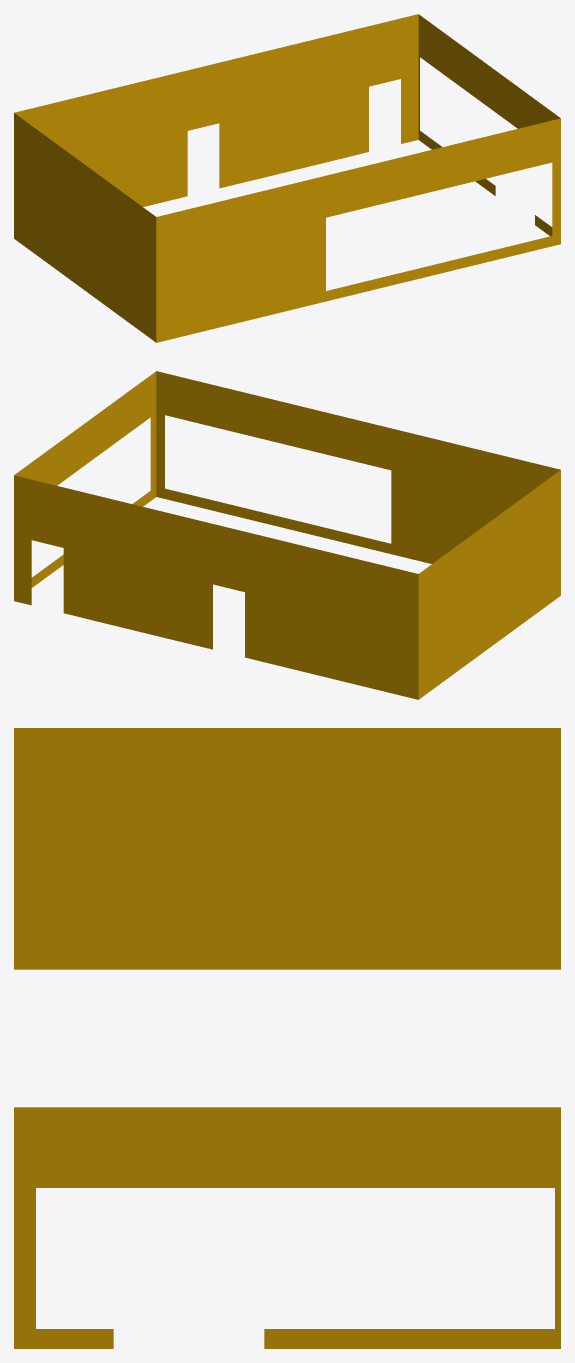
3 renders of one model, top to bottom at view 1: azimuth 30°, elevation 25°; view 2: azimuth 150°, elevation 25°; view 3: azimuth 270°, elevation 25°, orthographic. The views are drawn at different scales.
Visible parts, largest first — view 1: S_02_WP_01; view 2: S_02_WP_01; view 3: S_02_WP_01.
Part boxes in pixels (x1,y1,x2,y2): S_02_WP_01: [14, 14, 560, 342]; S_02_WP_01: [14, 371, 560, 699]; S_02_WP_01: [14, 728, 560, 1348].
Size of the model in its own units: 1477 by 439 by 901.
